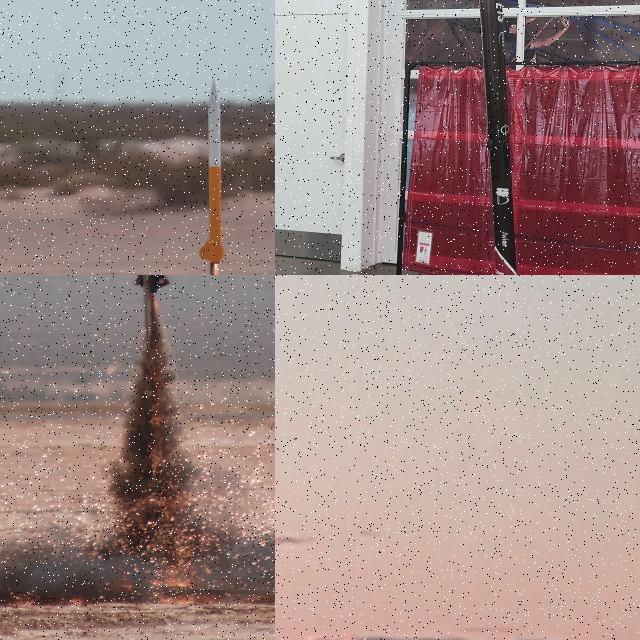Rocket: (479, 0, 517, 275), (197, 78, 229, 265)
